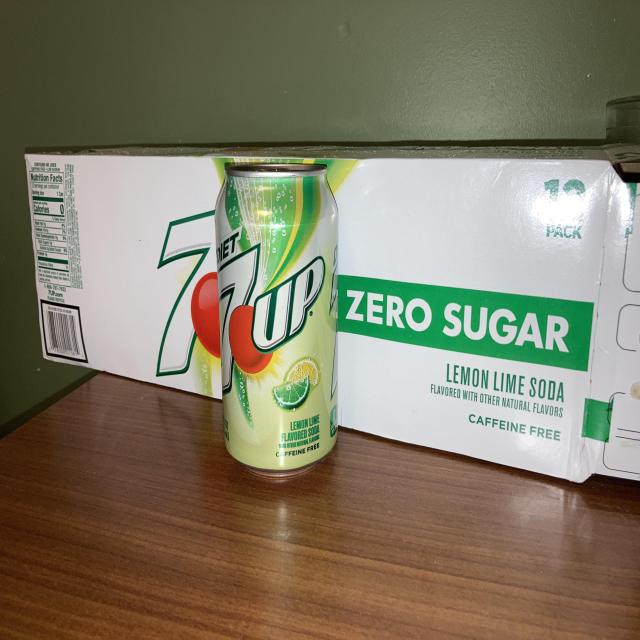can: (213, 158, 341, 480)
